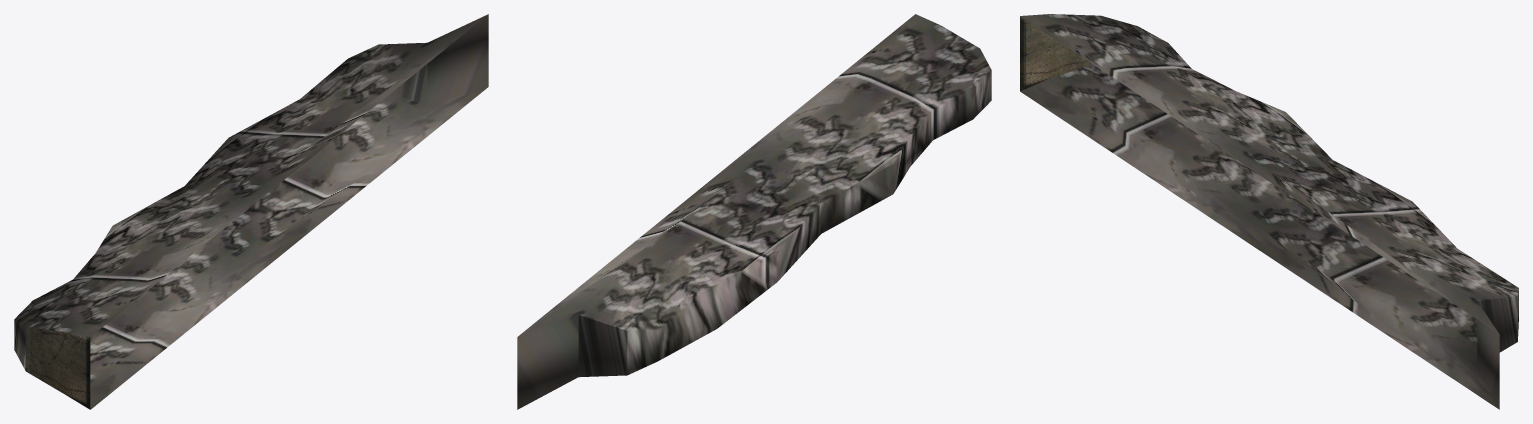
File: CH09_SMAUG_PLAYSURFACE_LAIR49.fbx
3 renders of one model, left to right at view 1: azimuth 30°, elevation 25°; view 2: azimuth 210°, elevation 25°; view 3: azimuth 270°, elevation 25°, orthographic. The views are drawn at different scales.
Parts seen in each view (by area): view 1: CH09_SMAUG_PLAYSURFACE_LAIR49; view 2: CH09_SMAUG_PLAYSURFACE_LAIR49; view 3: CH09_SMAUG_PLAYSURFACE_LAIR49.
Boxes of the visible parts, left/top/right/bottom form: CH09_SMAUG_PLAYSURFACE_LAIR49: left=14, top=14, right=488, bottom=409; CH09_SMAUG_PLAYSURFACE_LAIR49: left=517, top=14, right=991, bottom=409; CH09_SMAUG_PLAYSURFACE_LAIR49: left=1020, top=14, right=1518, bottom=409.
Bounding box in the file's own units: 57448 × 6106 × 36553.
Materials: 2 (2 with a texture image).
